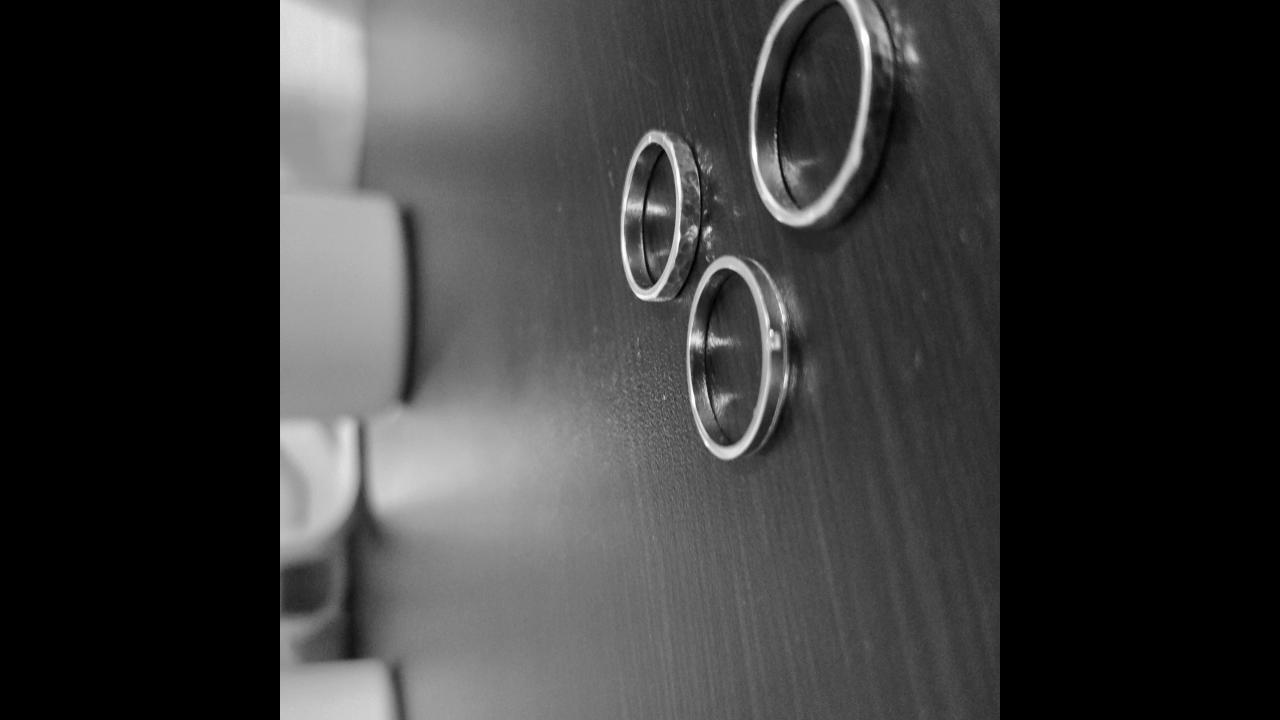ring: (748, 0, 896, 228), (684, 253, 790, 463), (618, 122, 704, 302)
